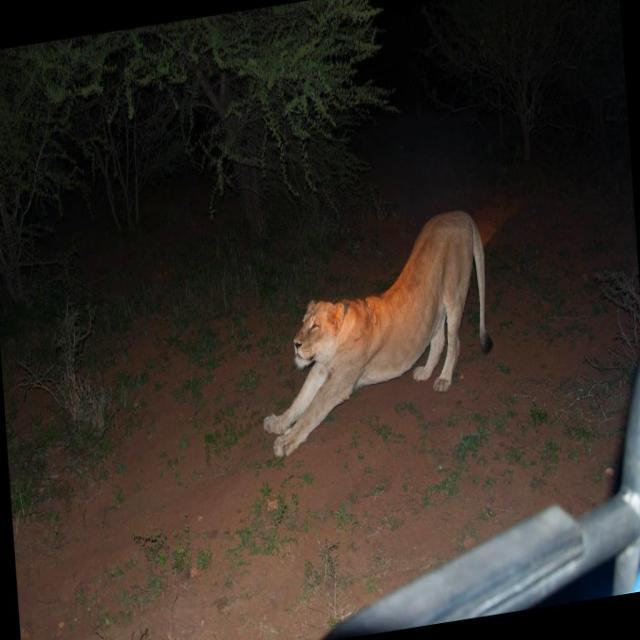Lion: (250, 204, 499, 461)
